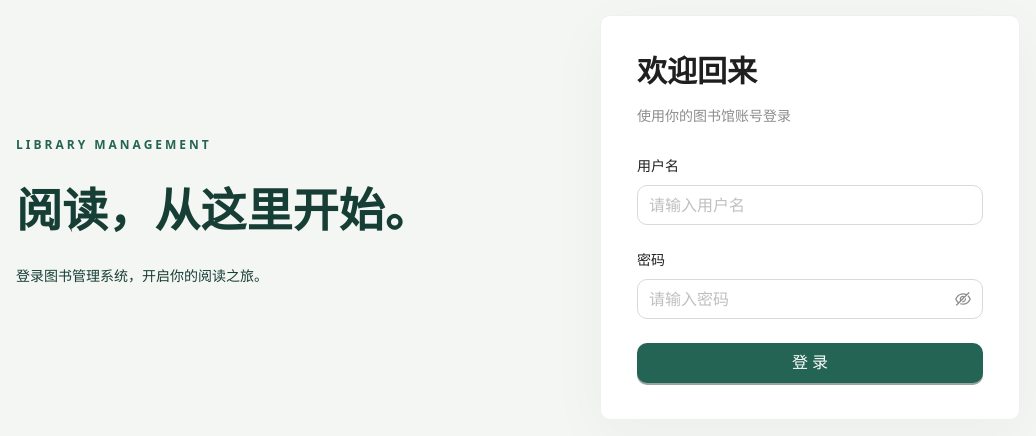
Test: 登录与身份恢复 › 校验必填项与密码长度，不发送无效请求
This screenshot has width=1036, height=436.
Click the button "登 录" at [810, 362], box 637,342 -> 983,382
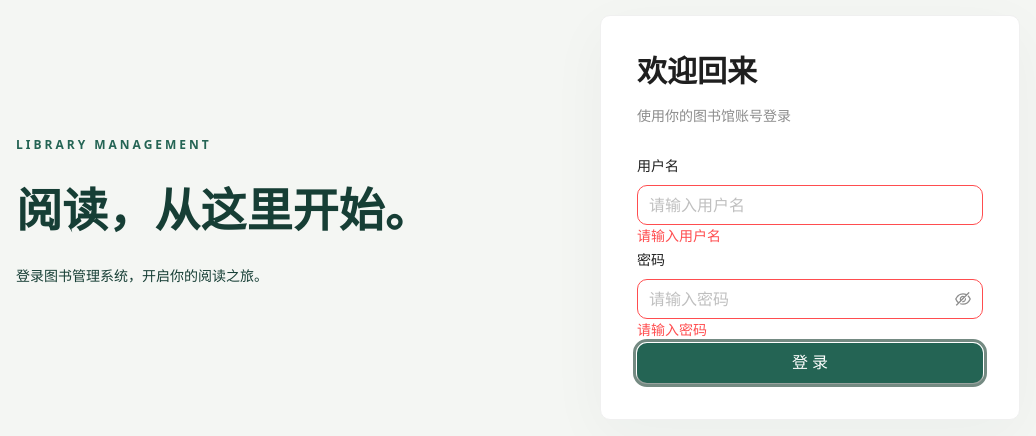
Now the text "请输入用户名" is shown, box 637,226 -> 721,244
Now the text "请输入密码" is shown, box 637,320 -> 707,338
Type "reader" into the field labelled "用户名" at [810, 204], box 637,184 -> 983,224
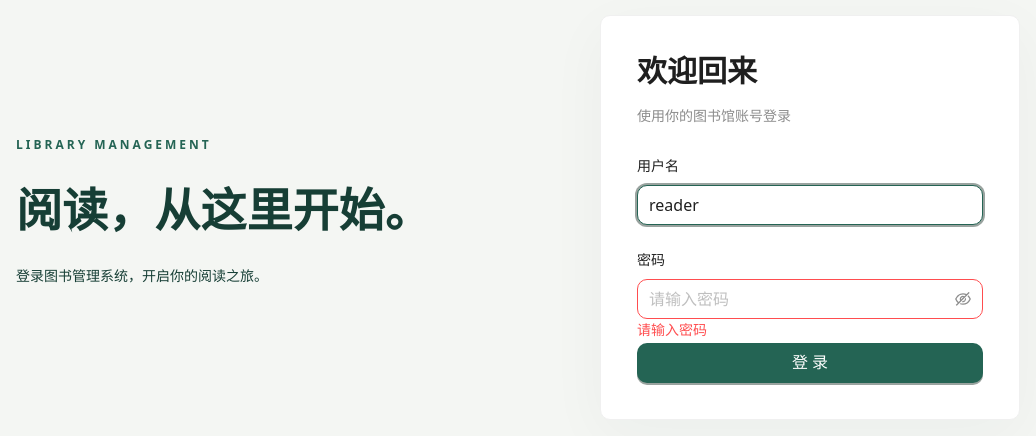
Type "short" into the password field labelled "密码" at [800, 298], box 649,286 -> 951,310
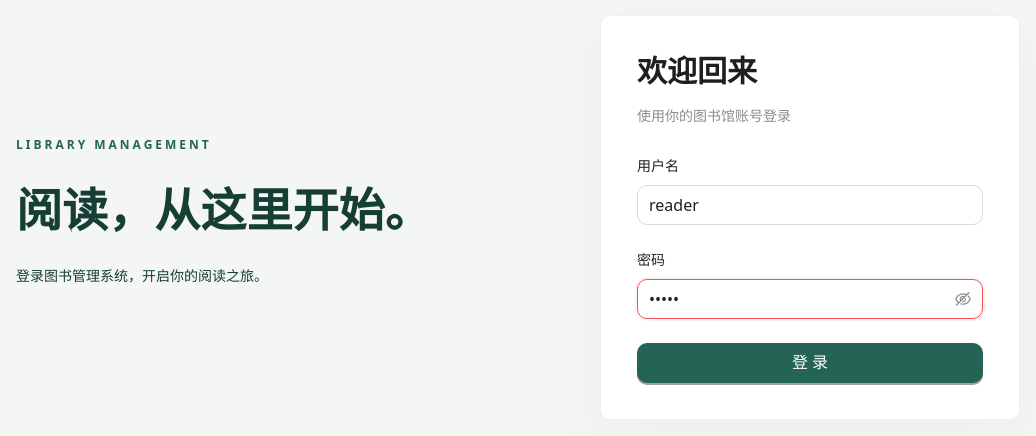
Click the button "登 录" at [810, 362], box 637,342 -> 983,382
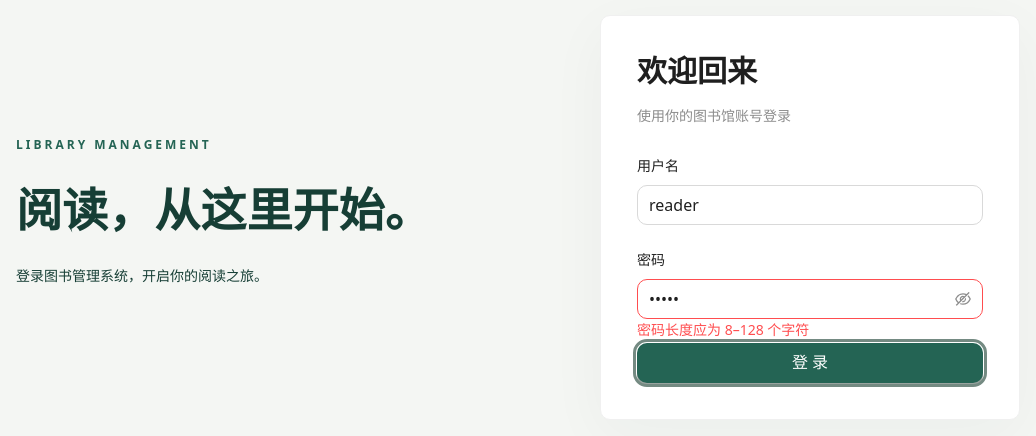
Now the text "密码长度应为 8–128 个字符" is shown, box 637,320 -> 809,338
